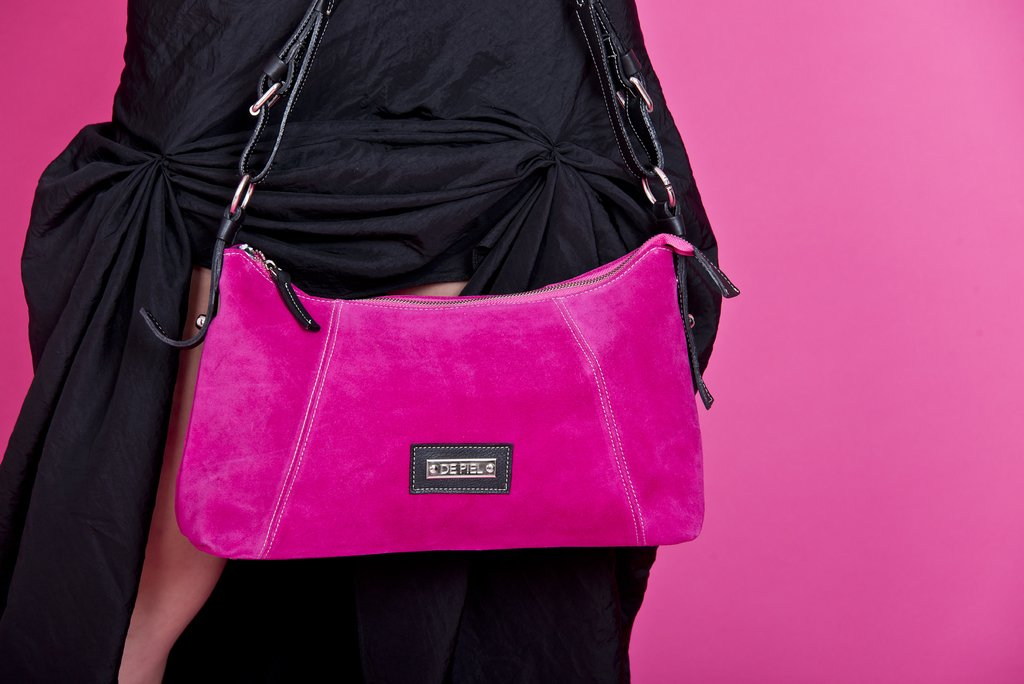cartera: (170, 1, 721, 564)
gamuza: (176, 235, 707, 568)
